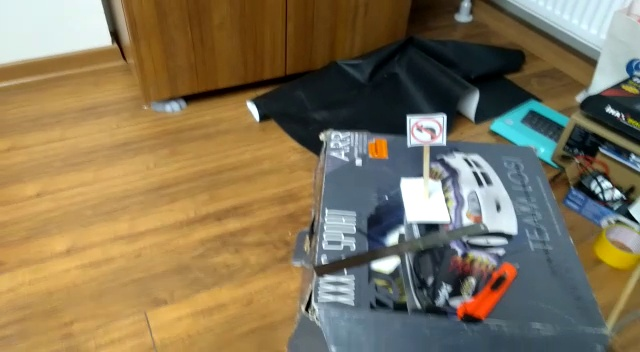sola_donulmez: (410, 117, 443, 145)
